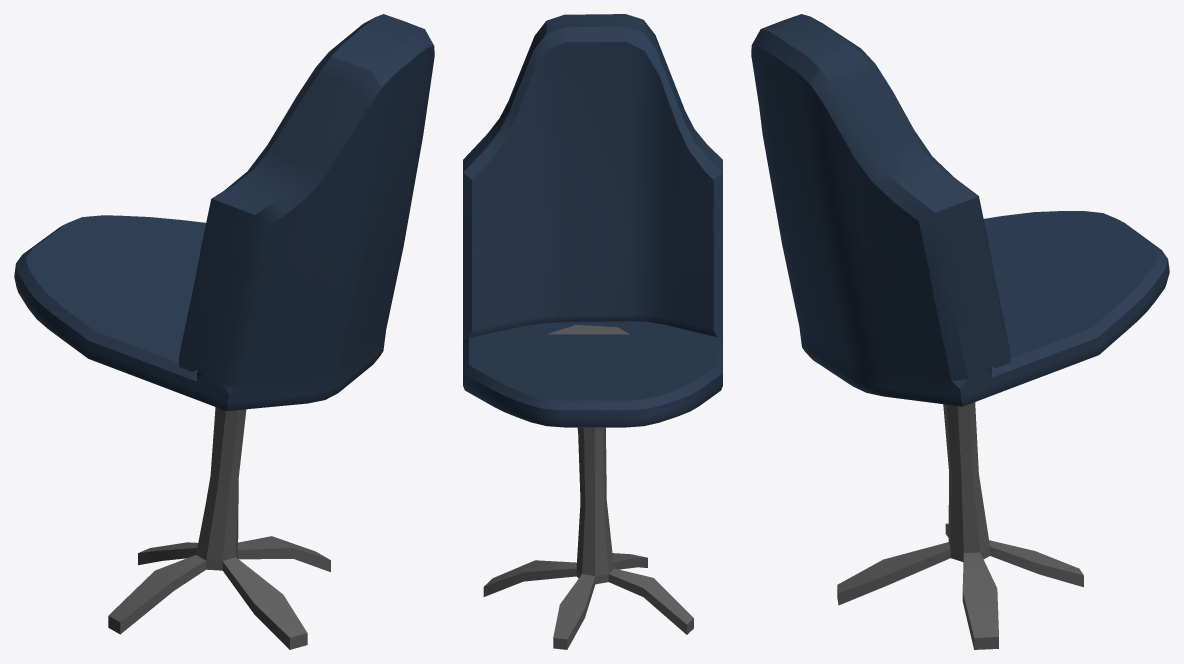
The model's file is Chair.fbx.
The picture shows the model from 3 angles, left to right: view 1: azimuth 30°, elevation 25°; view 2: azimuth 150°, elevation 25°; view 3: azimuth 270°, elevation 25°; orthographic projection. The views are drawn at different scales.
Visible parts, largest first — view 1: Chair; view 2: Chair; view 3: Chair.
Part boxes in pixels (box(x1,y1,x2,y2)): Chair: box(14, 14, 434, 649); Chair: box(463, 14, 722, 649); Chair: box(751, 14, 1169, 649).
Bounding box in the file's own units: 47.59 × 86.87 × 54.91.
